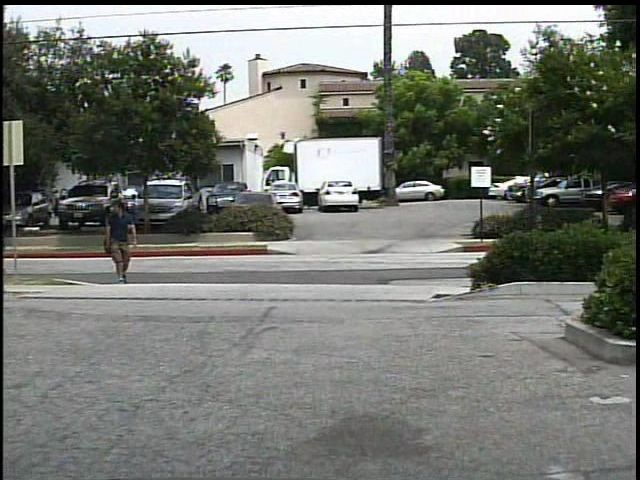person: (102, 198, 142, 284)
